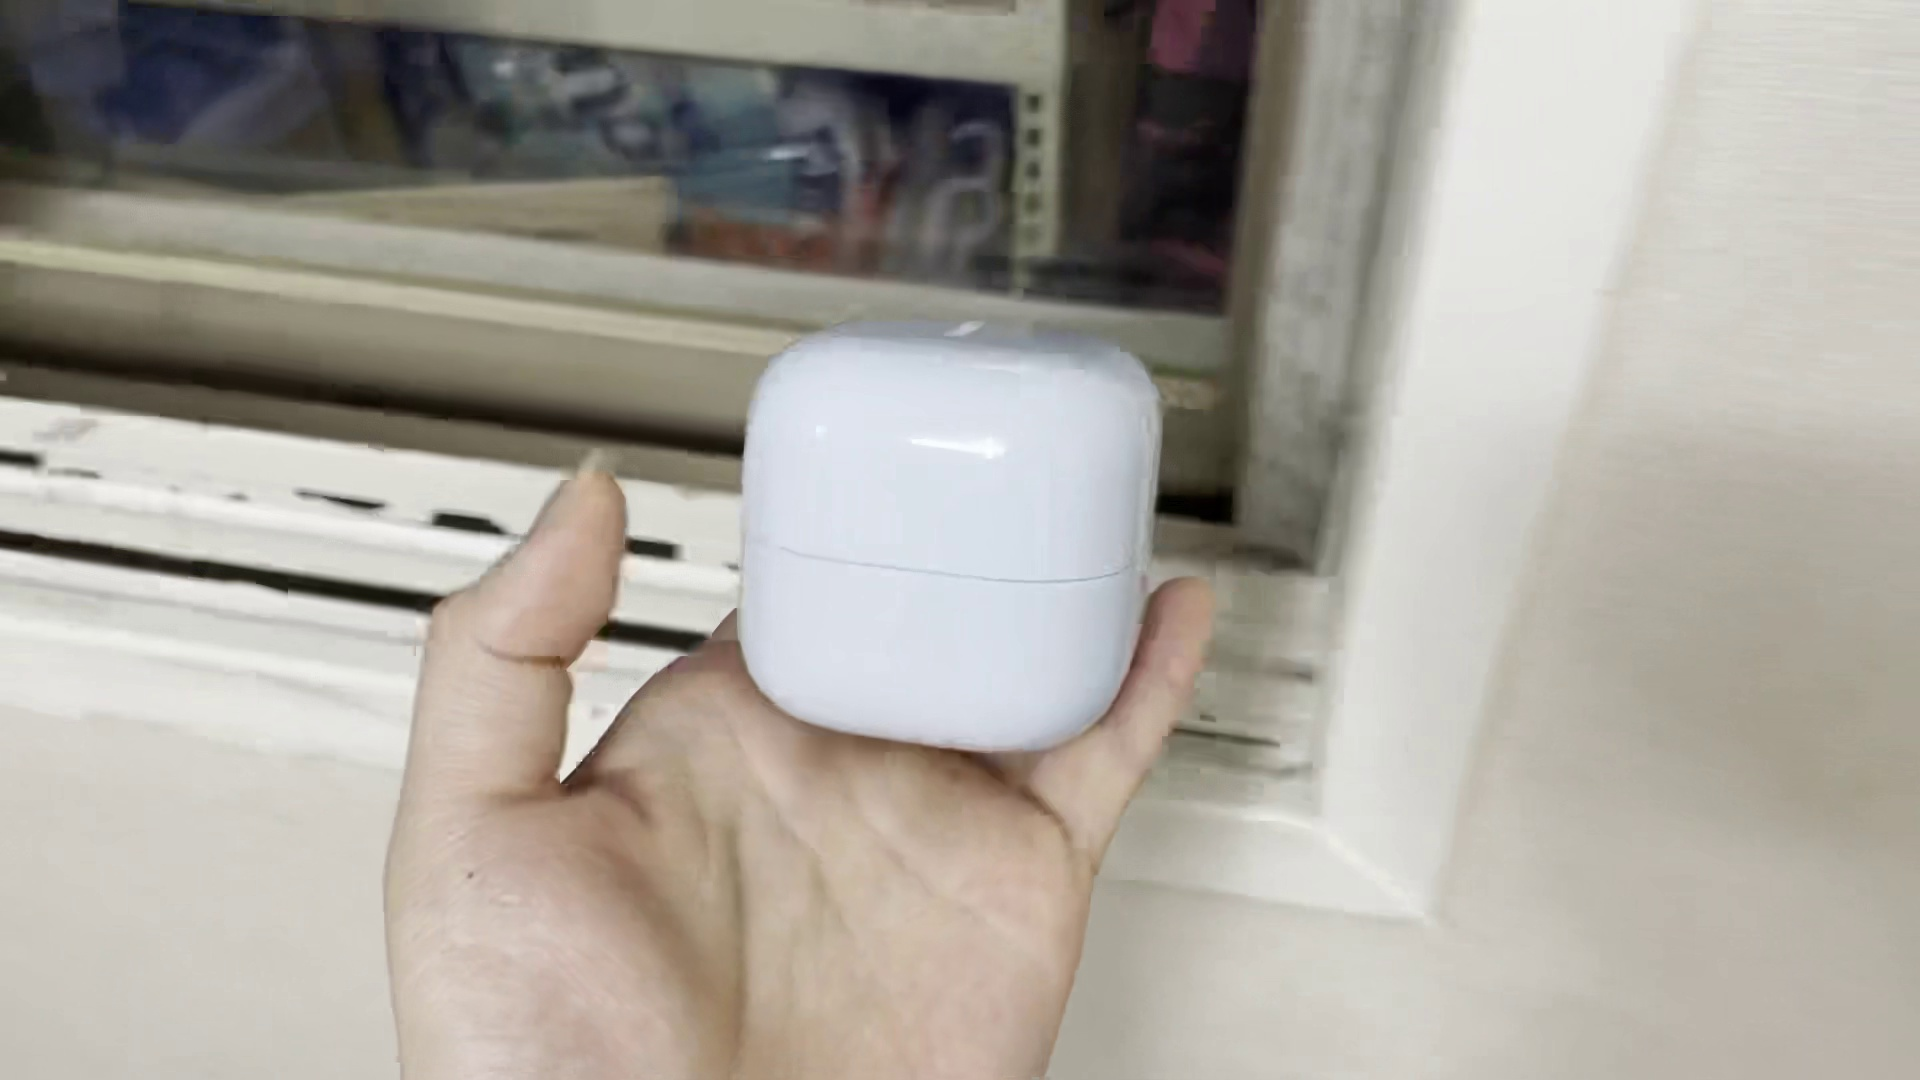cream: (740, 313, 1156, 760)
